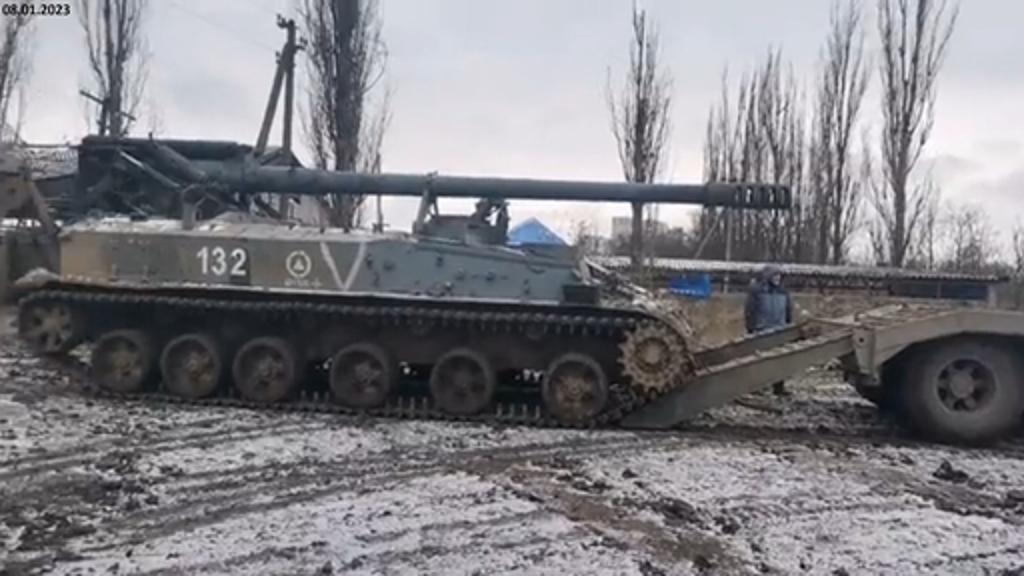ART: (12, 124, 794, 430)
